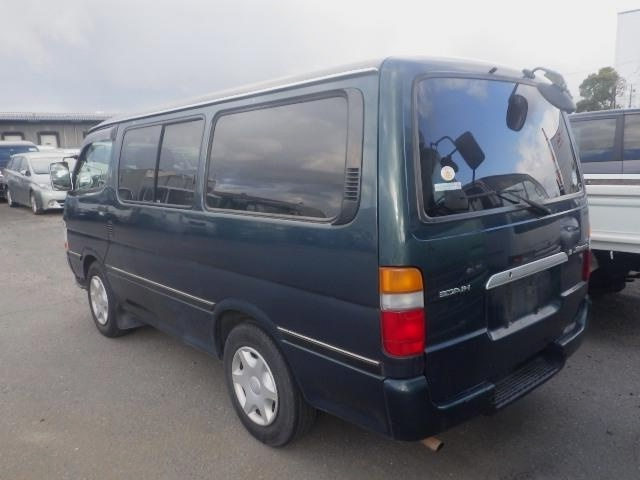van: (64, 56, 575, 436)
